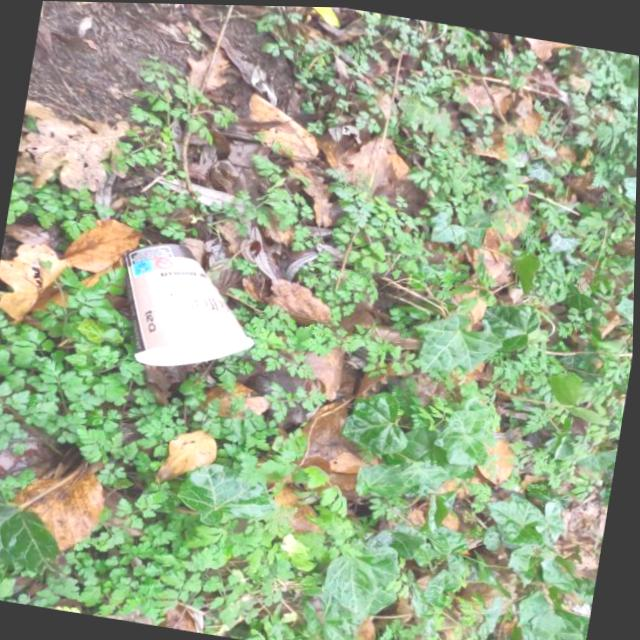Cup: (112, 229, 271, 382)
